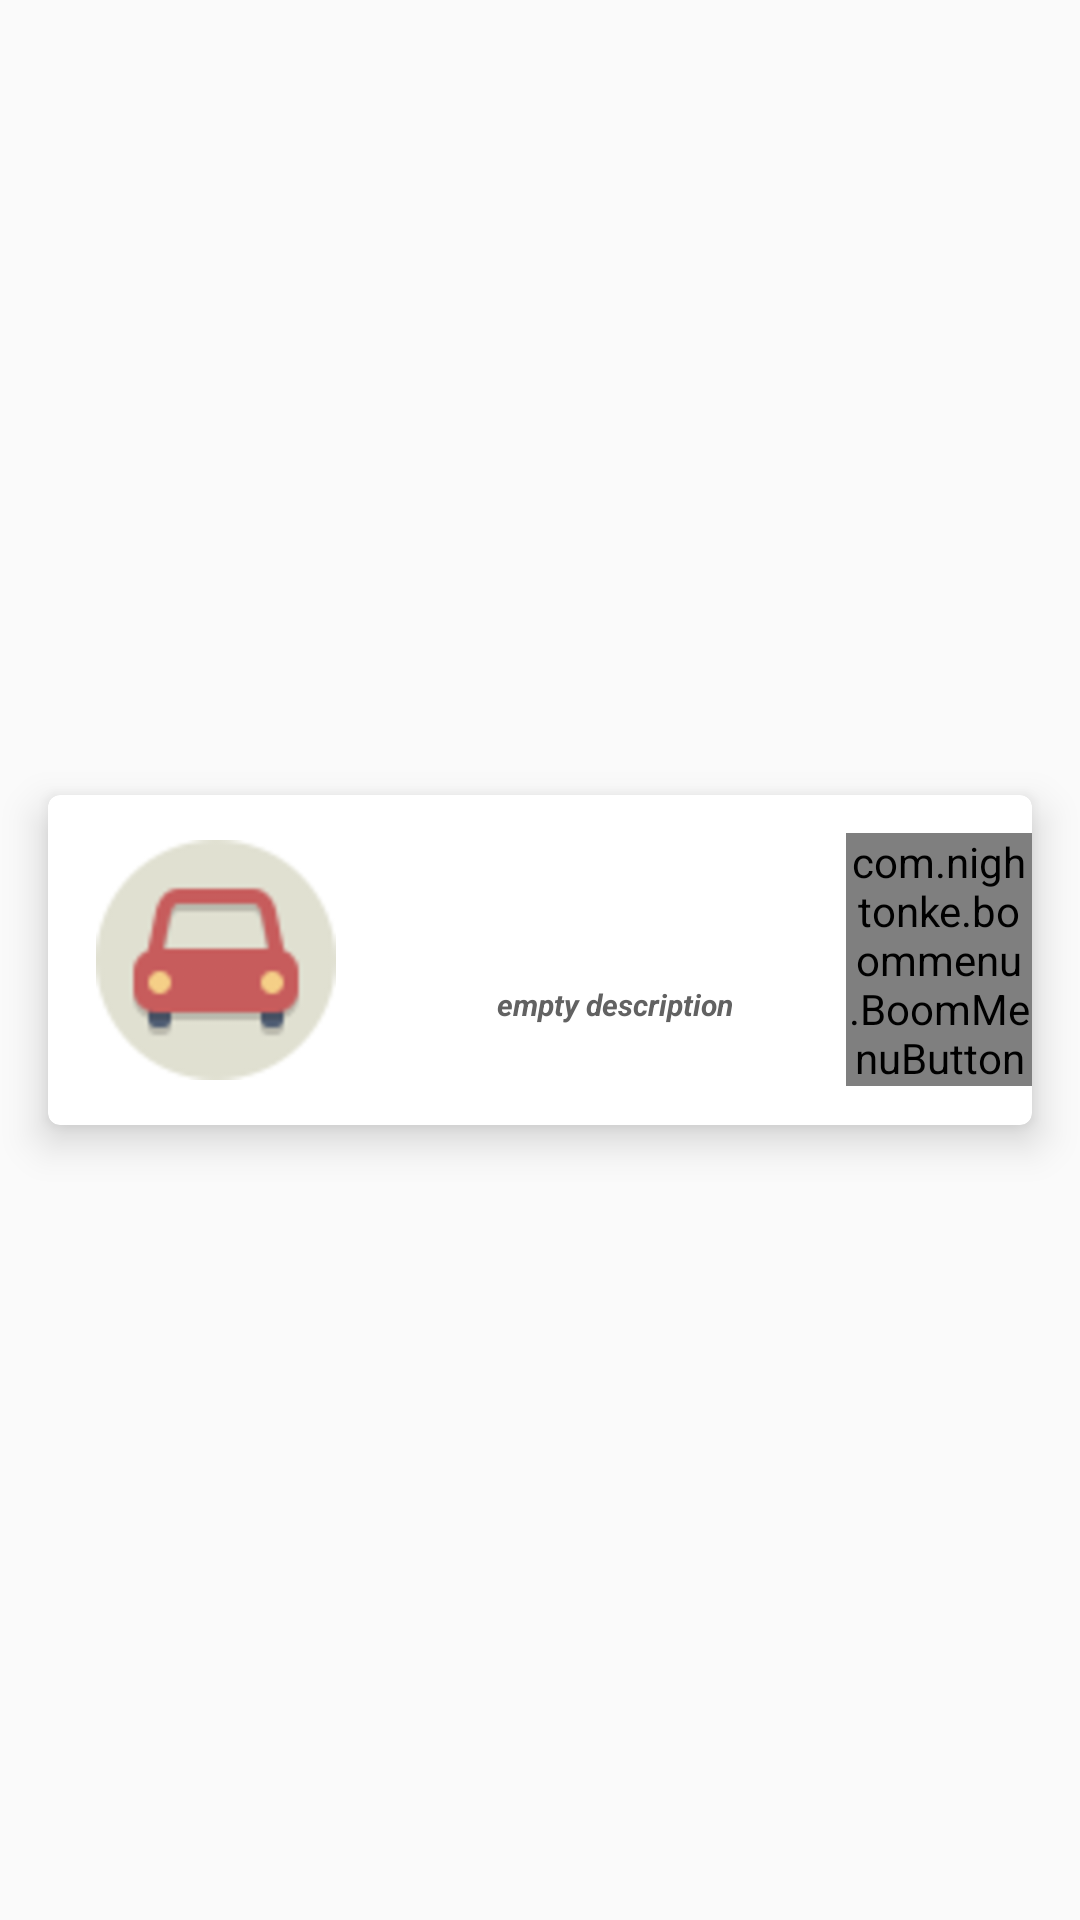

Point at icon controls on the screen. Image size 1080px×1920px, points as (x,y).
if car: (216,960)
